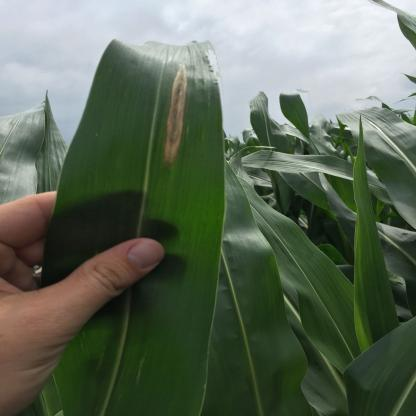Corn leaf blight: (68, 13, 238, 235)
